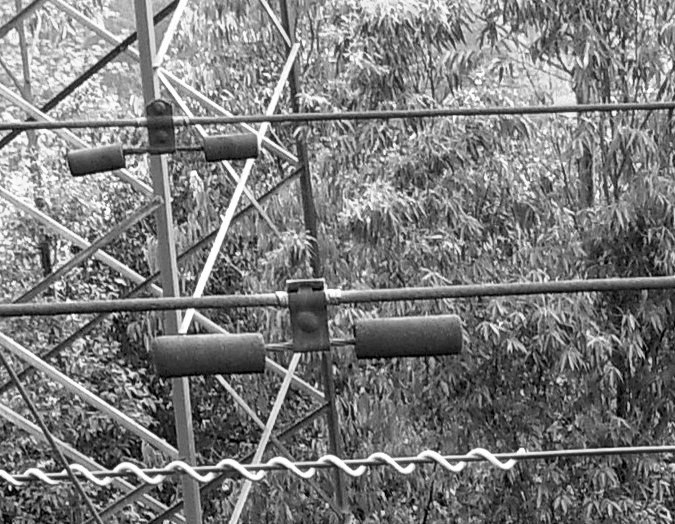Shockproof hammer: (139, 275, 474, 386), (61, 97, 268, 180)
